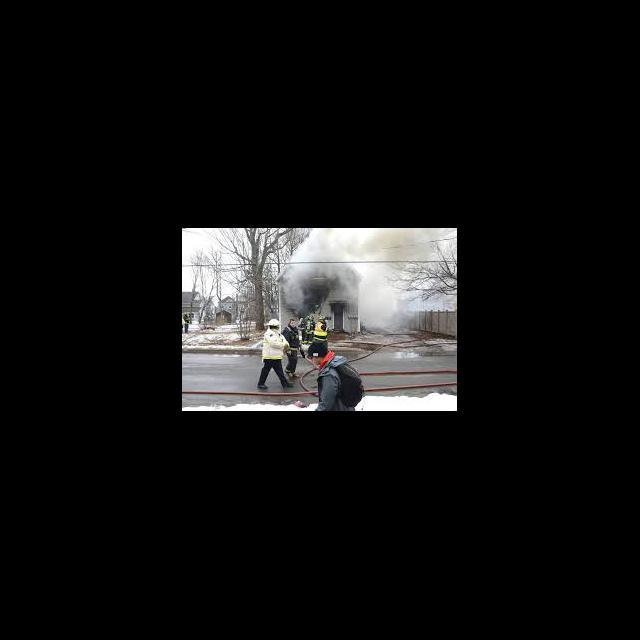Smoke: (278, 228, 457, 334)
